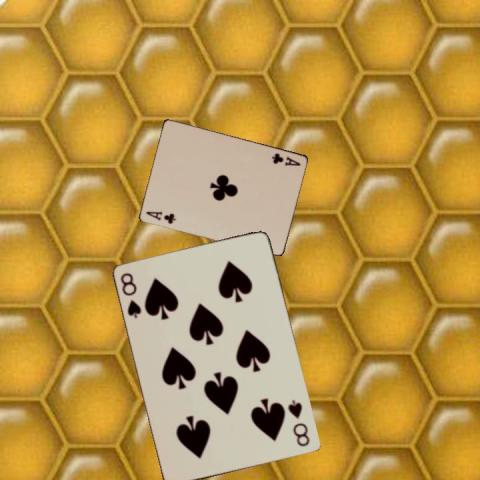8s: (285, 397, 312, 448), (118, 270, 143, 320)
Ac: (142, 209, 176, 225), (269, 150, 301, 167)
